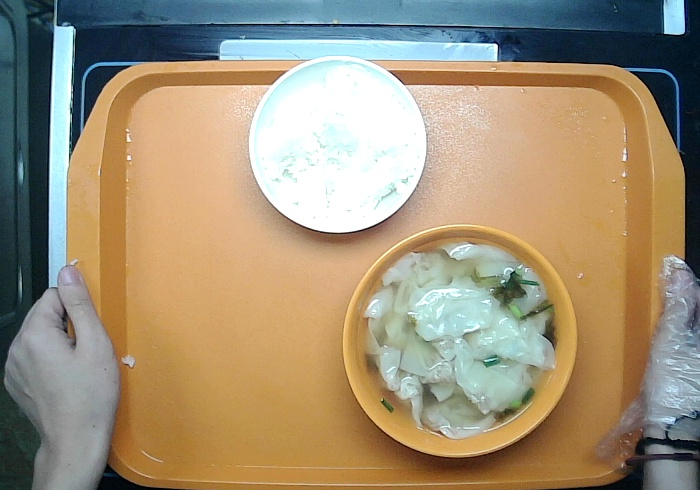NLDX-Fan_Wan: (245, 52, 431, 236)
NLDX-Hun_Tun_Wan: (333, 217, 581, 465)
